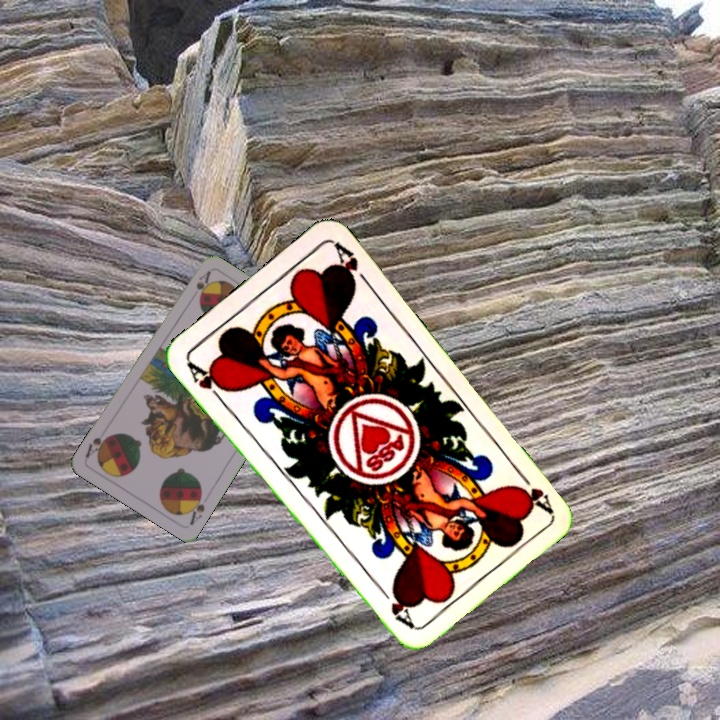HA: (182, 357, 230, 407), (511, 465, 555, 515)
SA: (183, 487, 207, 527), (192, 267, 213, 293)
